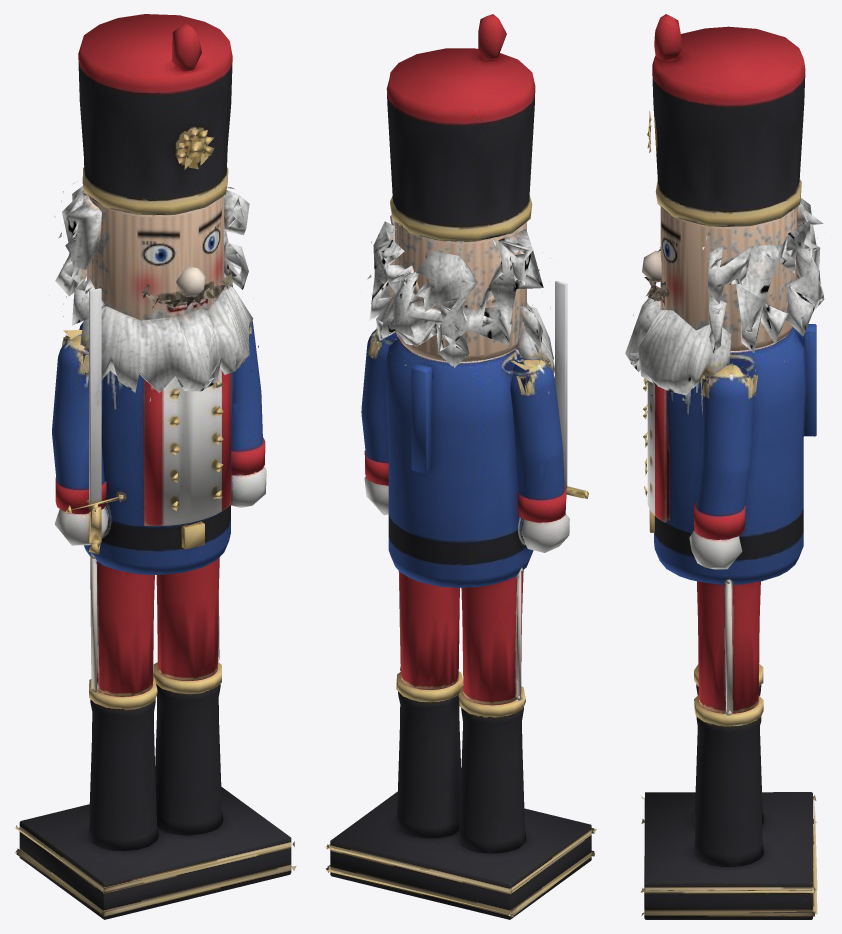
Rendered from cascanueces_soldado.glb.
The picture shows the model from 3 angles, left to right: view 1: azimuth 30°, elevation 25°; view 2: azimuth 150°, elevation 25°; view 3: azimuth 270°, elevation 25°; orthographic projection. The views are drawn at different scales.
Parts seen in each view (by area): view 1: LOW_Cascanueces_Soldado.001; view 2: LOW_Cascanueces_Soldado.001; view 3: LOW_Cascanueces_Soldado.001.
Boxes of the visible parts, x1,y1,x2,y2 form: LOW_Cascanueces_Soldado.001: [15, 14, 296, 919]; LOW_Cascanueces_Soldado.001: [325, 14, 596, 919]; LOW_Cascanueces_Soldado.001: [625, 14, 824, 919].
Bounding box in the file's own units: 0.1043 × 0.4028 × 0.086.
1 material, 1 textured.
